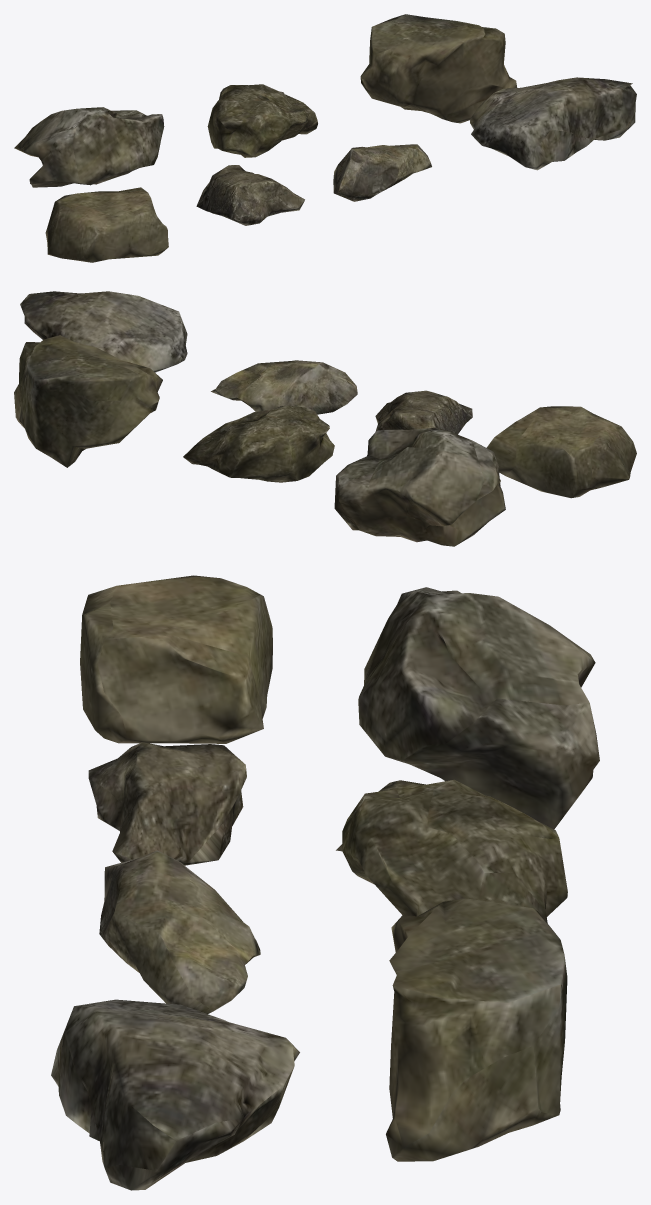
The model's file is rocks.glb.
The picture shows the model from 3 angles, top to bottom: view 1: azimuth 30°, elevation 25°; view 2: azimuth 150°, elevation 25°; view 3: azimuth 270°, elevation 25°; orthographic projection. The views are drawn at different scales.
Bounding box in the file's own units: 8.25 × 1.29 × 3.36.
1 material, 1 textured.
